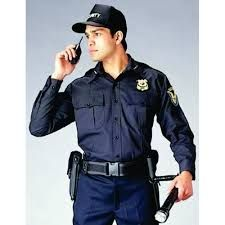gun: (64, 149, 81, 200)
uniform: (68, 56, 160, 219)
